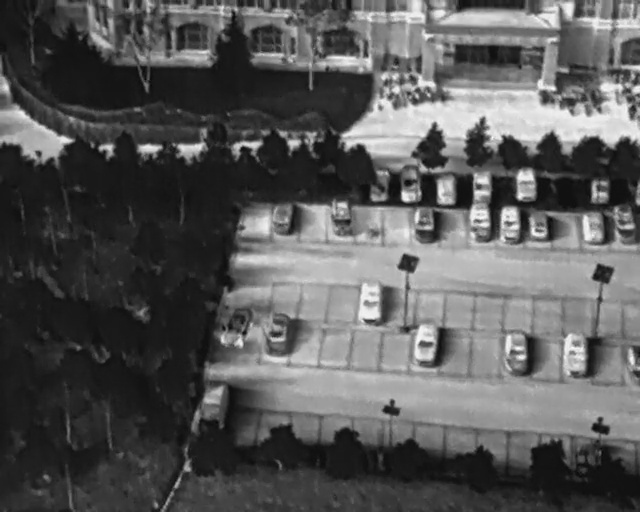Car: (216, 300, 259, 355), (203, 377, 230, 432), (502, 328, 529, 375), (565, 330, 590, 378), (360, 280, 383, 323), (269, 312, 290, 354), (615, 203, 636, 244), (332, 193, 352, 236), (417, 322, 437, 365), (413, 205, 435, 242), (582, 210, 605, 245), (401, 164, 422, 202), (471, 203, 492, 241), (472, 168, 493, 203), (271, 202, 293, 235), (436, 169, 456, 205), (502, 206, 521, 241), (517, 167, 537, 200), (592, 173, 611, 205), (371, 168, 389, 201), (531, 209, 548, 241)
DontCare: (377, 73, 444, 108)
